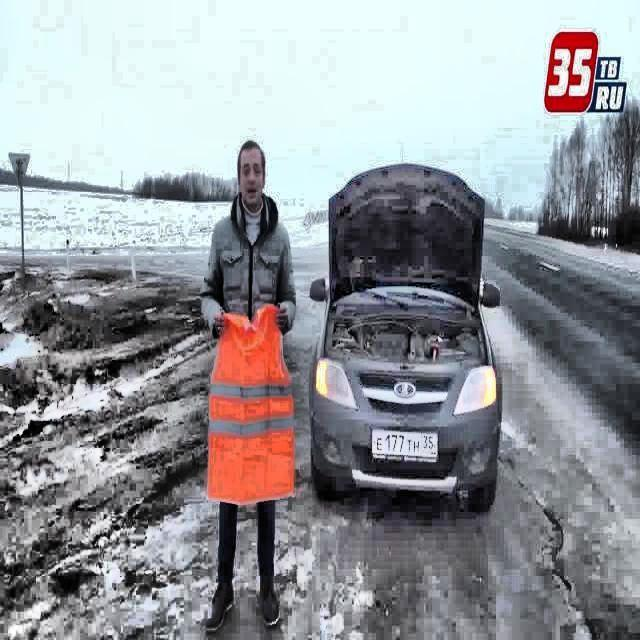safety_jacket: (206, 307, 298, 510)
